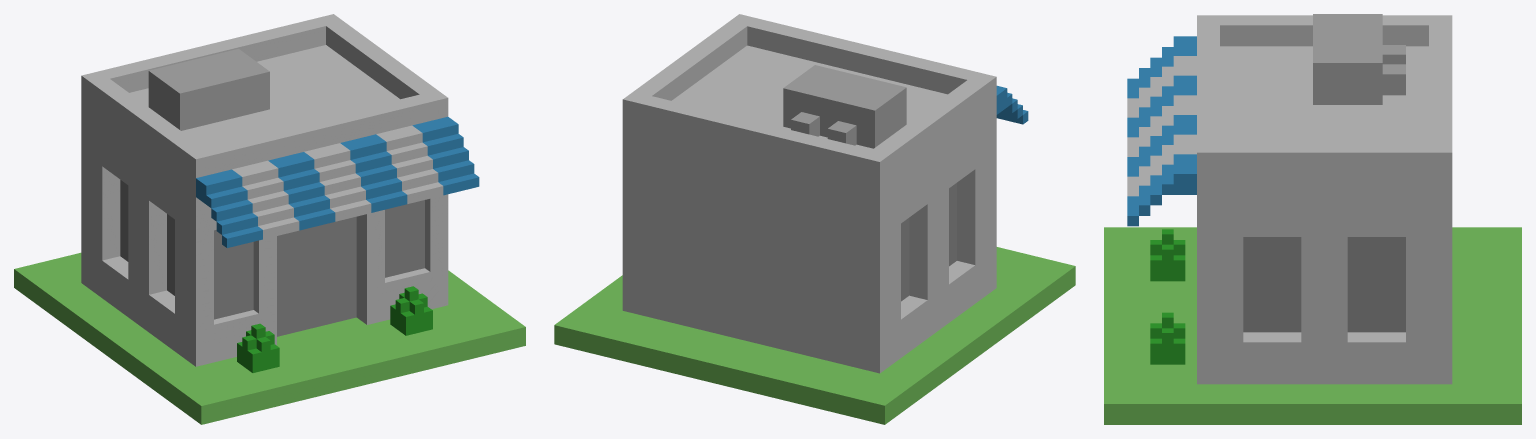
The picture shows the model from 3 angles, left to right: view 1: azimuth 30°, elevation 25°; view 2: azimuth 150°, elevation 25°; view 3: azimuth 270°, elevation 25°; orthographic projection. The views are drawn at different scales.
Visible parts, largest first — view 1: 10; view 2: 10; view 3: 10.
Boxes of the visible parts, x1,y1,x2,y2 form: 10: (14, 14, 525, 424); 10: (554, 14, 1075, 424); 10: (1104, 14, 1521, 424).
Size of the model in its own units: 450 by 325 by 450.
